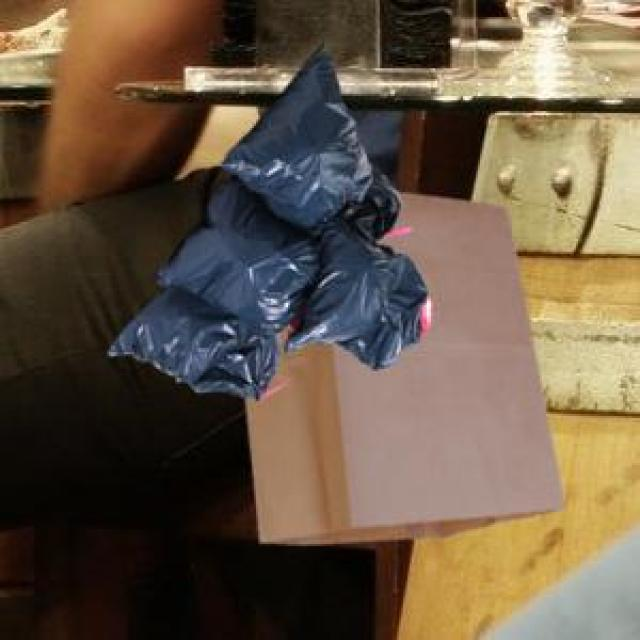miscellaneous trash: (105, 41, 427, 397)
paper: (241, 190, 561, 540)
